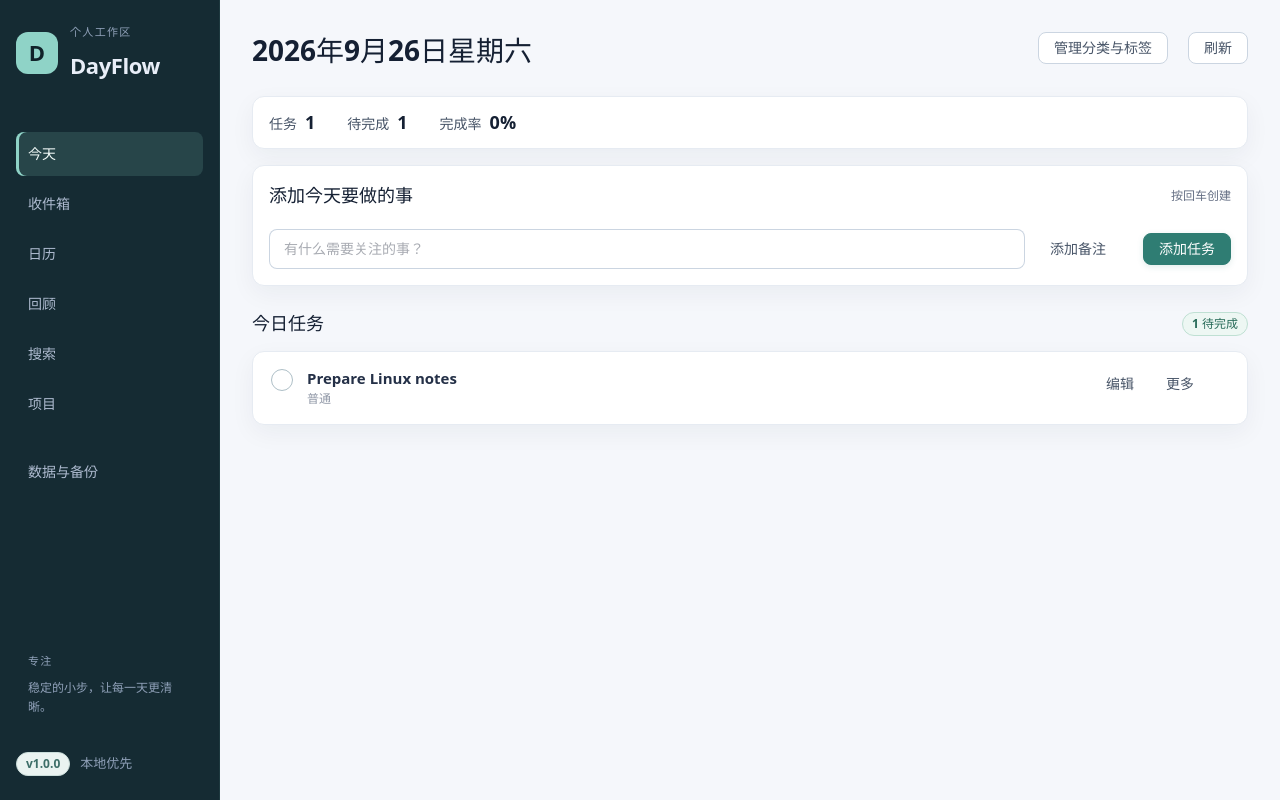
Test: delete undo flow › restores a soft-deleted task from the success message
This screenshot has width=1280, height=800.
Click the button "更多" at [1180, 384], box [1151,368,1209,400]
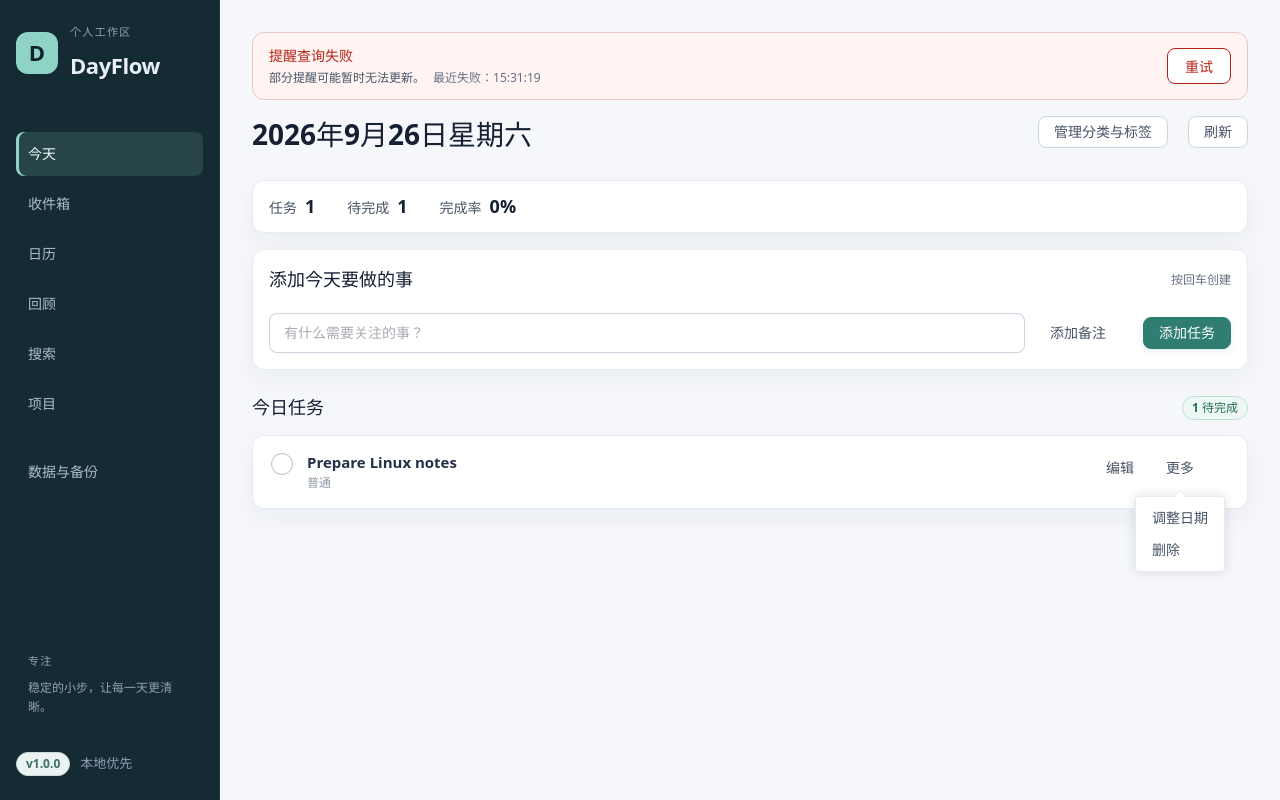
Expected: the menu item "删除" is shown
Click the menu item "删除" at [1166, 550], box [1152,540,1180,559]
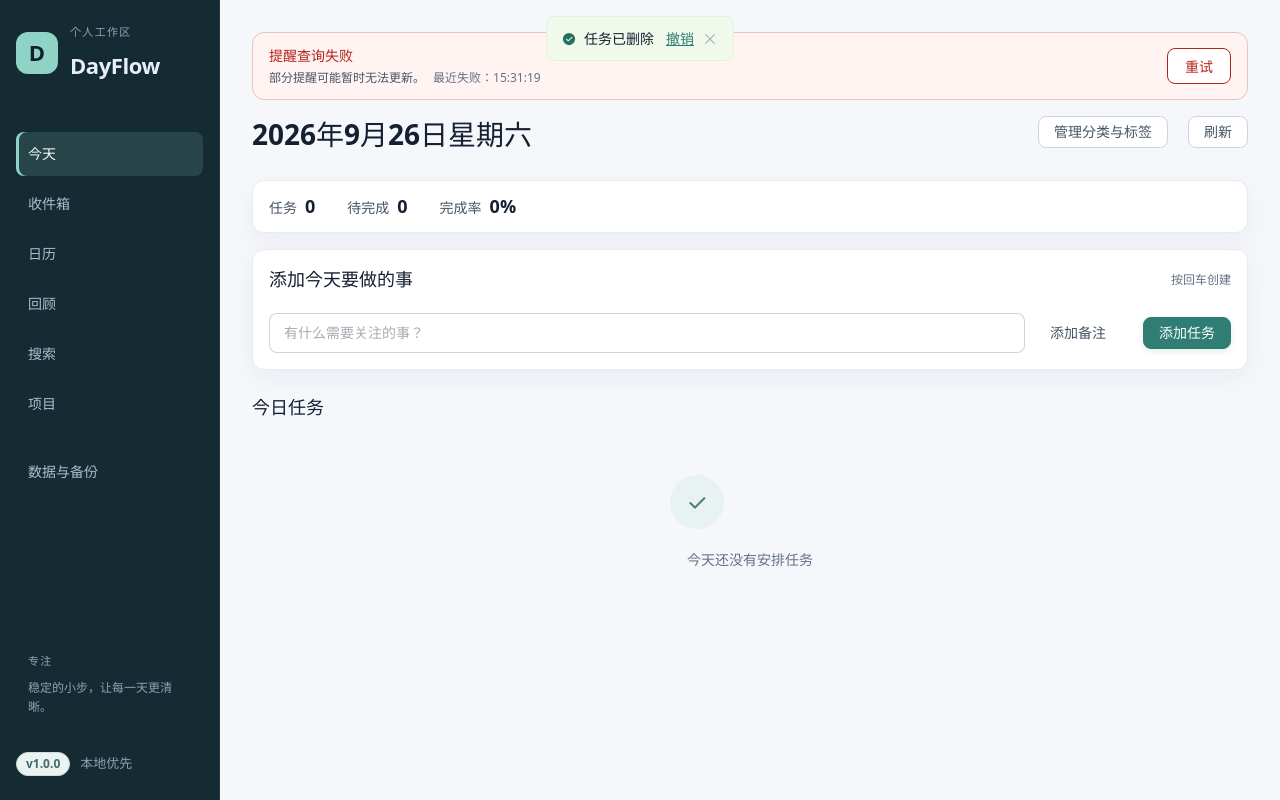
Expected: the button with class "delete-undo" is shown
Click the button with class "delete-undo" at [680, 38], box [666,28,694,49]
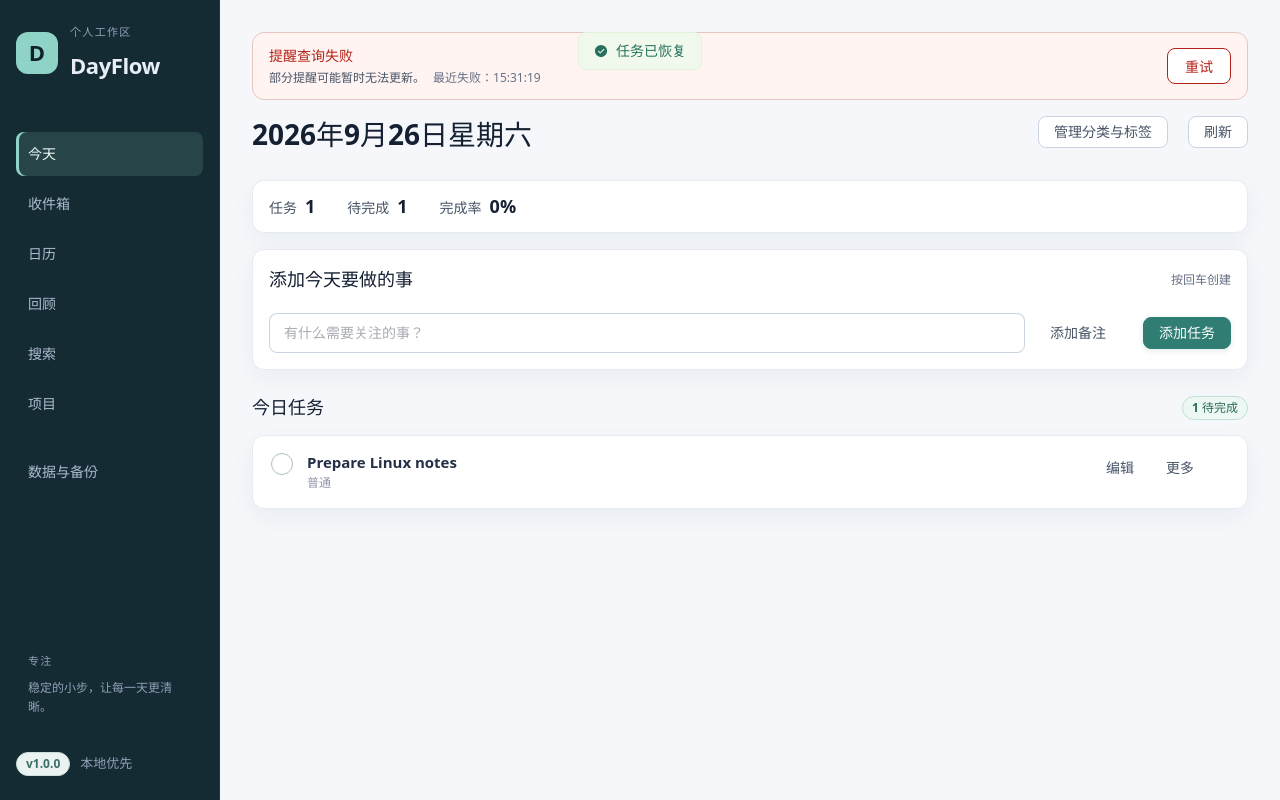
Expected: the text "Prepare Linux notes" is shown, [307,452,457,474]
